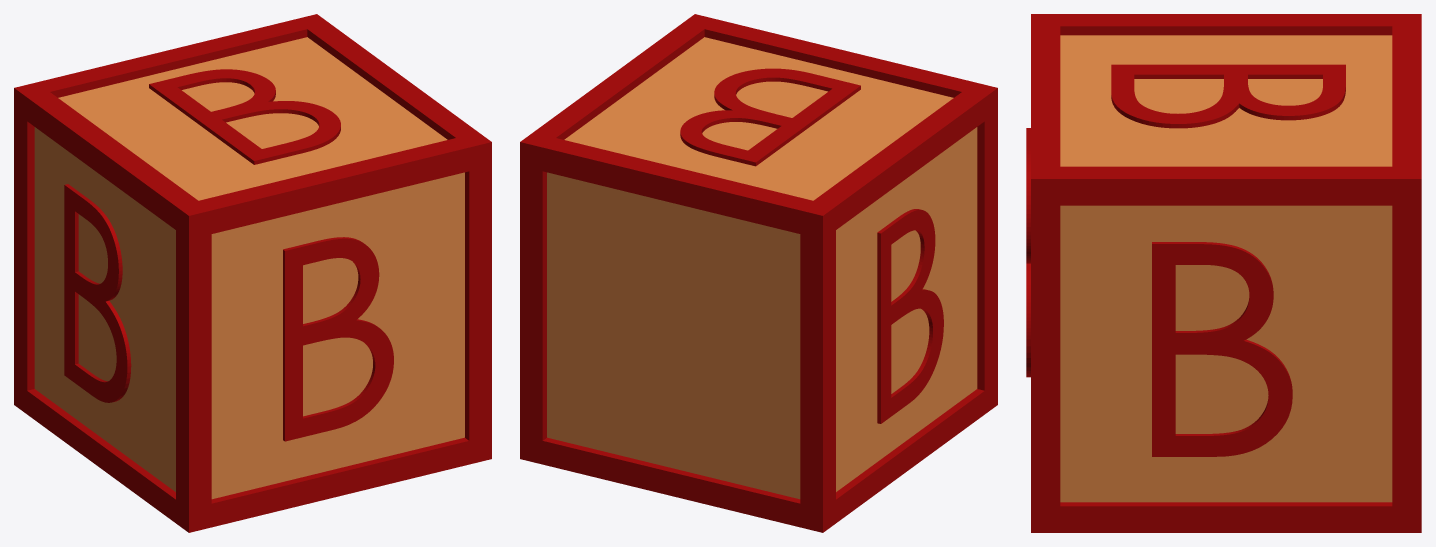
The model's file is B_block.FBX.
3 views of the same model, side by side, from view 1: azimuth 30°, elevation 25°; view 2: azimuth 150°, elevation 25°; view 3: azimuth 270°, elevation 25° (orthographic). The views are drawn at different scales.
Parts seen in each view (by area): view 1: Box001, Object001, Object002, Text001; view 2: Box001, Object002, Text001; view 3: Box001, Object003, Text001, Object001.
Part boxes in pixels (x1,y1,x2,y2): Box001: (14,14,491,532); Object001: (283,237,393,441); Object002: (64,184,131,402); Text001: (149,69,340,164); Box001: (520,14,997,532); Object002: (877,209,943,423); Text001: (680,68,860,166); Box001: (1031,14,1421,532); Object003: (1152,242,1292,456); Text001: (1111,64,1345,128); Object001: (1026,128,1030,377).
Size of the model in its own units: 20.5 by 20.25 by 20.25.
